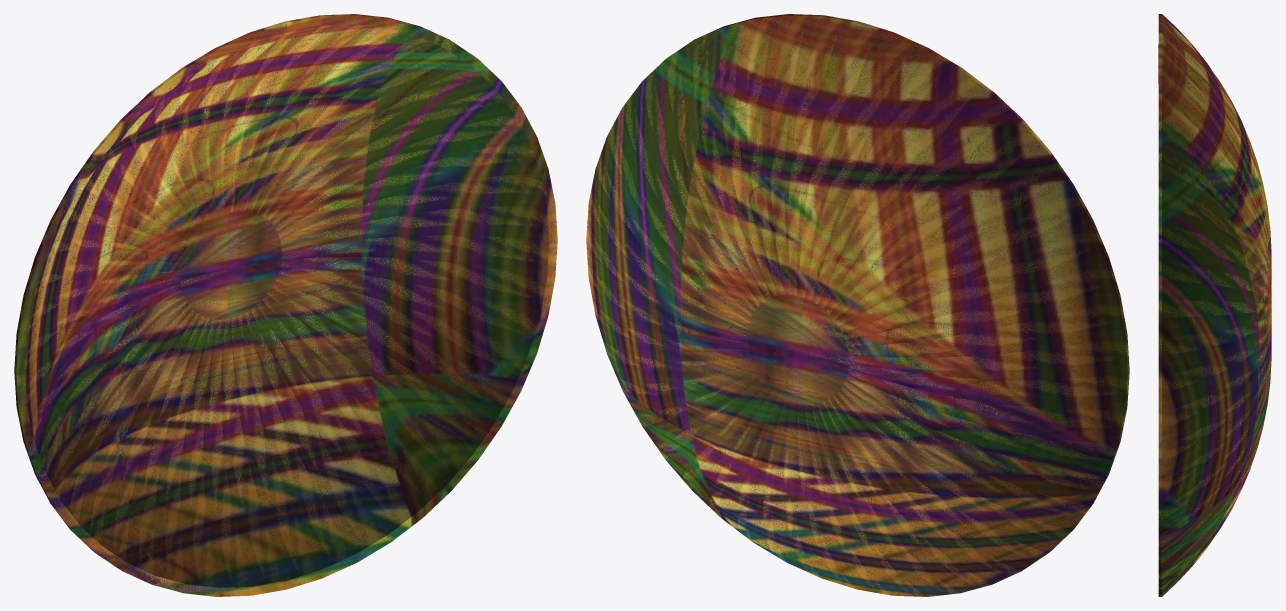
The model's file is model_align.obj.
3 renders of one model, left to right at view 1: azimuth 30°, elevation 25°; view 2: azimuth 150°, elevation 25°; view 3: azimuth 270°, elevation 25°, orthographic. The views are drawn at different scales.
Visible parts, largest first — view 1: mesh1_mesh1-geometry; view 2: mesh1_mesh1-geometry; view 3: mesh1_mesh1-geometry.
Part boxes in pixels (x1,y1,x2,y2): mesh1_mesh1-geometry: (14,14,557,596); mesh1_mesh1-geometry: (586,14,1129,596); mesh1_mesh1-geometry: (1158,14,1271,596).
Size of the model in its own units: 0.1666 by 0.1666 by 0.0323.
1 material, 1 textured.
